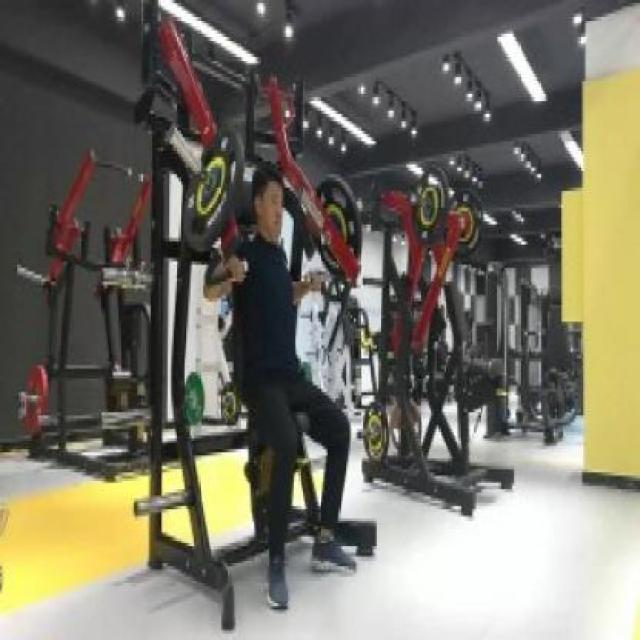Chest Press machine: (129, 3, 391, 640)
